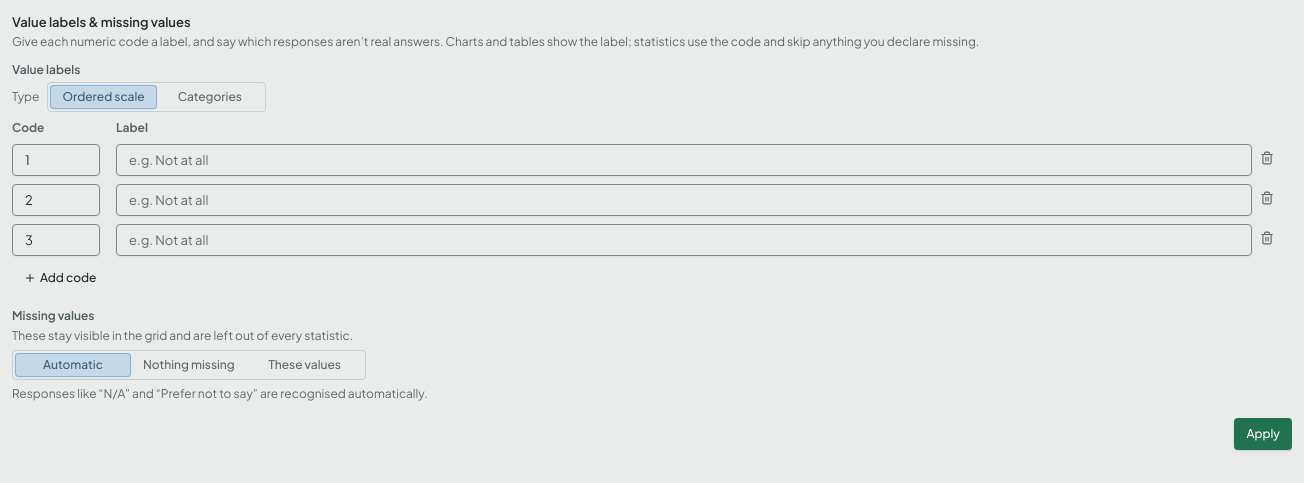
Scenario: #637: the labels error and the Apply button must agree › announces once a label is typed, and Apply blocks for the SAME reason
The width and height of the screenshot is (1304, 483).
Expected: the element with test id "missing-values-section" is shown, [12,308,428,401]
In the 1st field with placeholder "e.g. Not at all": (684, 160) [116,144,1252,176], type "Never"
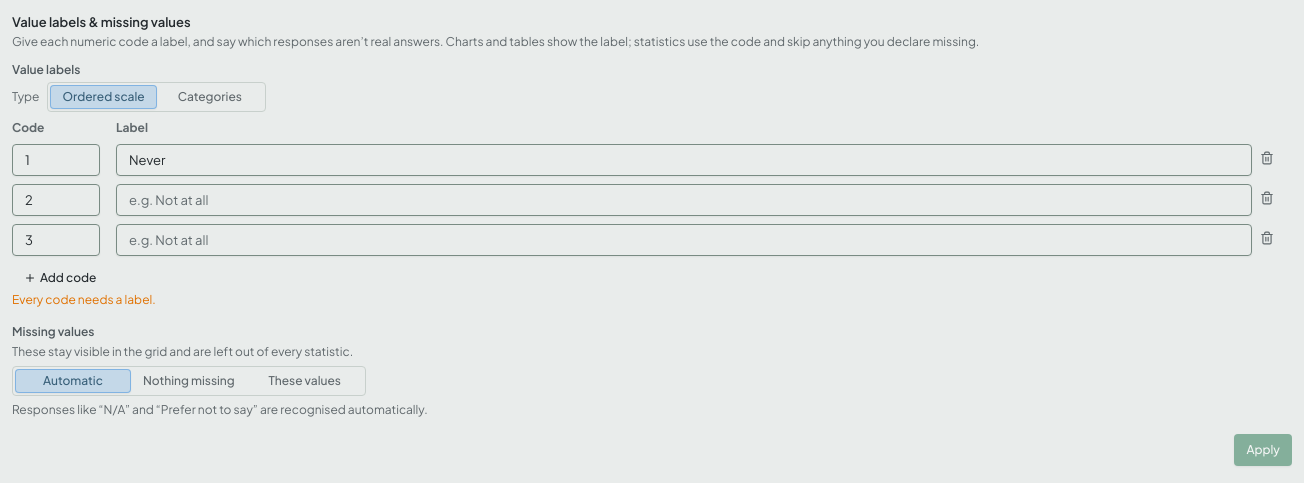
Result: the message "Every code needs a label." is shown at [12,292,156,307]
Result: the button "Apply" is disabled at [1234,434,1292,466]
